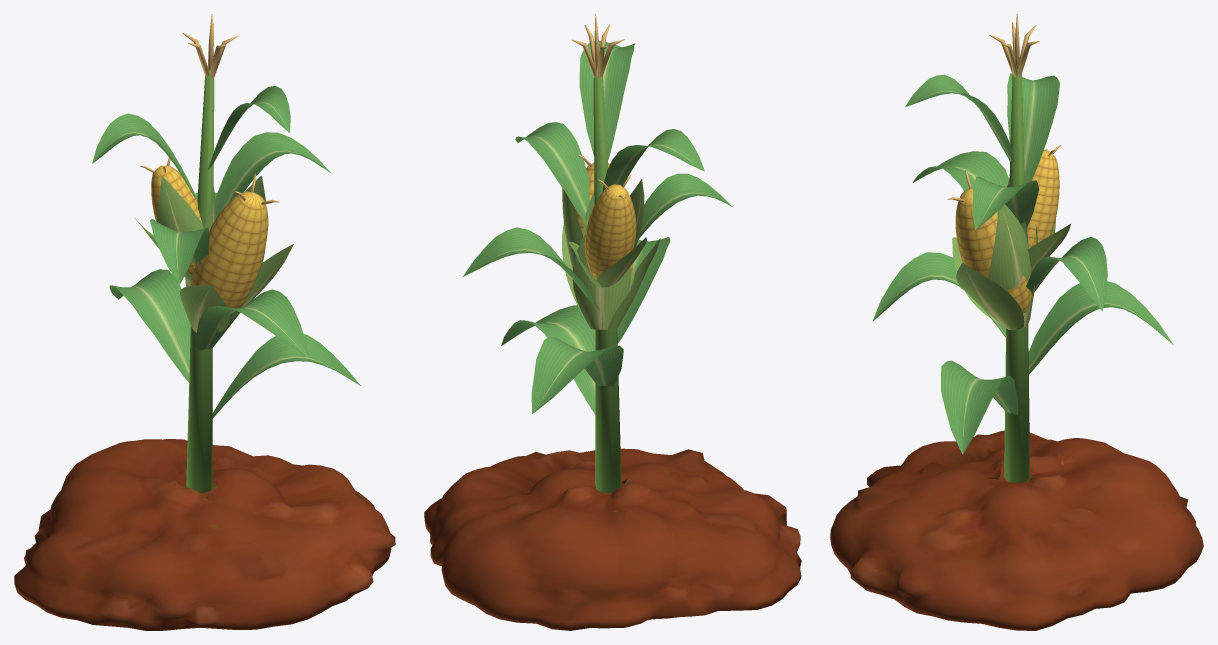
The picture shows the model from 3 angles, left to right: view 1: azimuth 30°, elevation 25°; view 2: azimuth 150°, elevation 25°; view 3: azimuth 270°, elevation 25°; orthographic projection.
Visible parts, largest first — view 1: corn-ready; view 2: corn-ready; view 3: corn-ready.
Part boxes in pixels (bbox=[...]): corn-ready: bbox=[14, 14, 395, 630]; corn-ready: bbox=[424, 14, 801, 630]; corn-ready: bbox=[830, 14, 1203, 630].
Bounding box in the file's own units: 0.7926 × 1.17 × 0.7345.
1 material, 1 textured.
